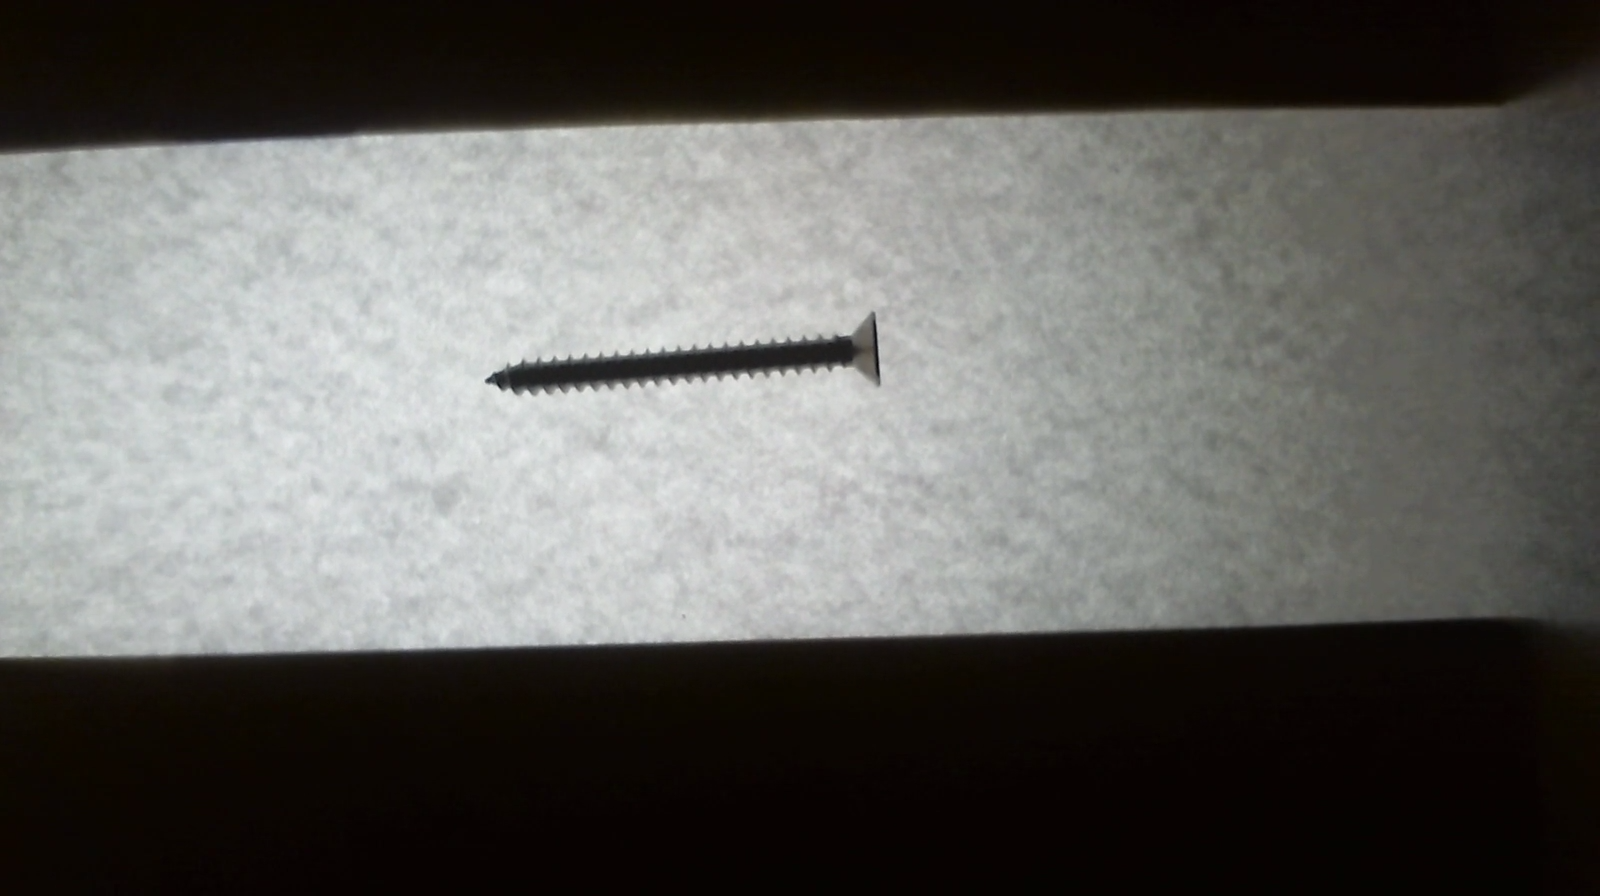S002: (484, 313, 891, 399)
